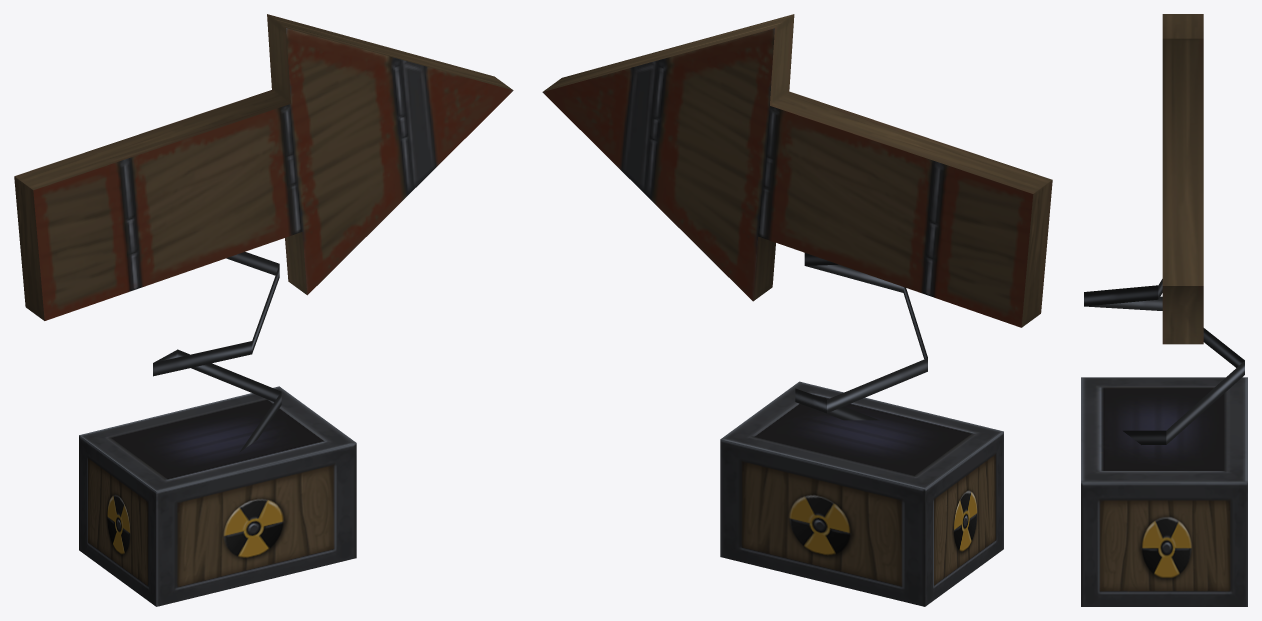
File: Ae_sign_03.FBX
The picture shows the model from 3 angles, left to right: view 1: azimuth 30°, elevation 25°; view 2: azimuth 150°, elevation 25°; view 3: azimuth 270°, elevation 25°; orthographic projection. The views are drawn at different scales.
Parts seen in each view (by area): view 1: Ae_sign_03; view 2: Ae_sign_03; view 3: Ae_sign_03.
Part boxes in pixels (x1,y1,x2,y2): Ae_sign_03: [14, 14, 513, 606]; Ae_sign_03: [542, 14, 1052, 606]; Ae_sign_03: [1081, 14, 1247, 606].
Size of the model in its own units: 25.58 by 7.13 by 25.97.
